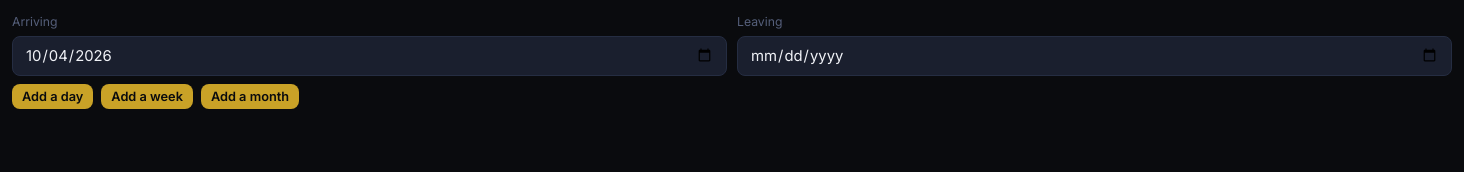
Scenario: New Reservation — Add a day / Add a week / Add a month › Add a week is seven nights, and adds to what is there
Click the button "Add a week".
click(147, 96)  # box left=101, top=84, right=193, bottom=109
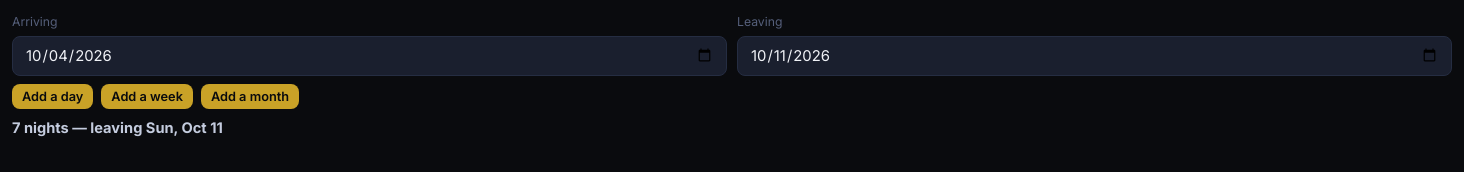
Expected: the text with test id "resv-nights" reads "7 nights — leaving Sun, Oct 11", left=12, top=119, right=223, bottom=137
Click the button "Add a day".
click(53, 96)  # box left=12, top=84, right=93, bottom=109
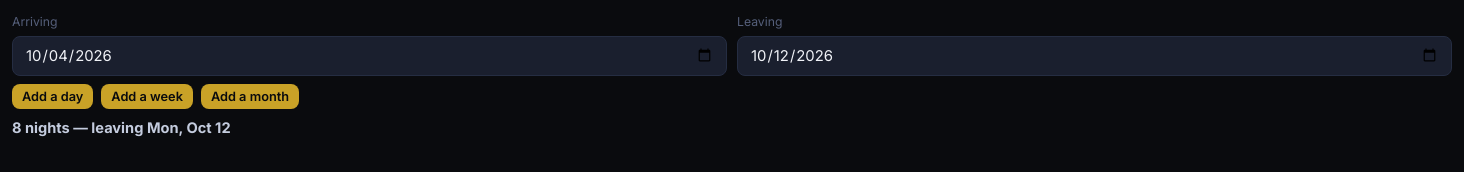
Expected: the text with test id "resv-nights" reads "8 nights — leaving Mon, Oct 12", left=12, top=119, right=231, bottom=137
